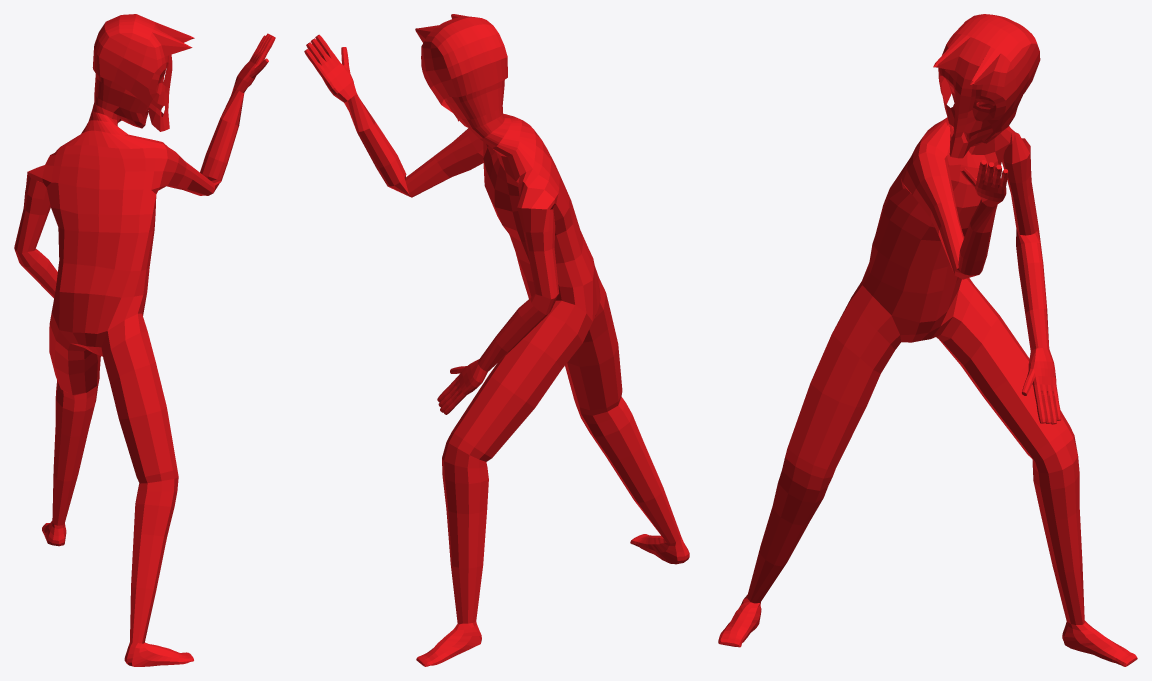
Rendered from activaAlarma_000106.obj.
3 renders of one model, left to right at view 1: azimuth 30°, elevation 25°; view 2: azimuth 150°, elevation 25°; view 3: azimuth 270°, elevation 25°, orthographic. The views are drawn at different scales.
Visible parts, largest first — view 1: Plane.002_Plane.001; view 2: Plane.002_Plane.001; view 3: Plane.002_Plane.001.
Boxes of the visible parts, bbox=[...] form: Plane.002_Plane.001: bbox=[14, 14, 275, 666]; Plane.002_Plane.001: bbox=[304, 14, 689, 666]; Plane.002_Plane.001: bbox=[718, 14, 1137, 666].
Size of the model in its own units: 3.1 by 6.54 by 3.78.
